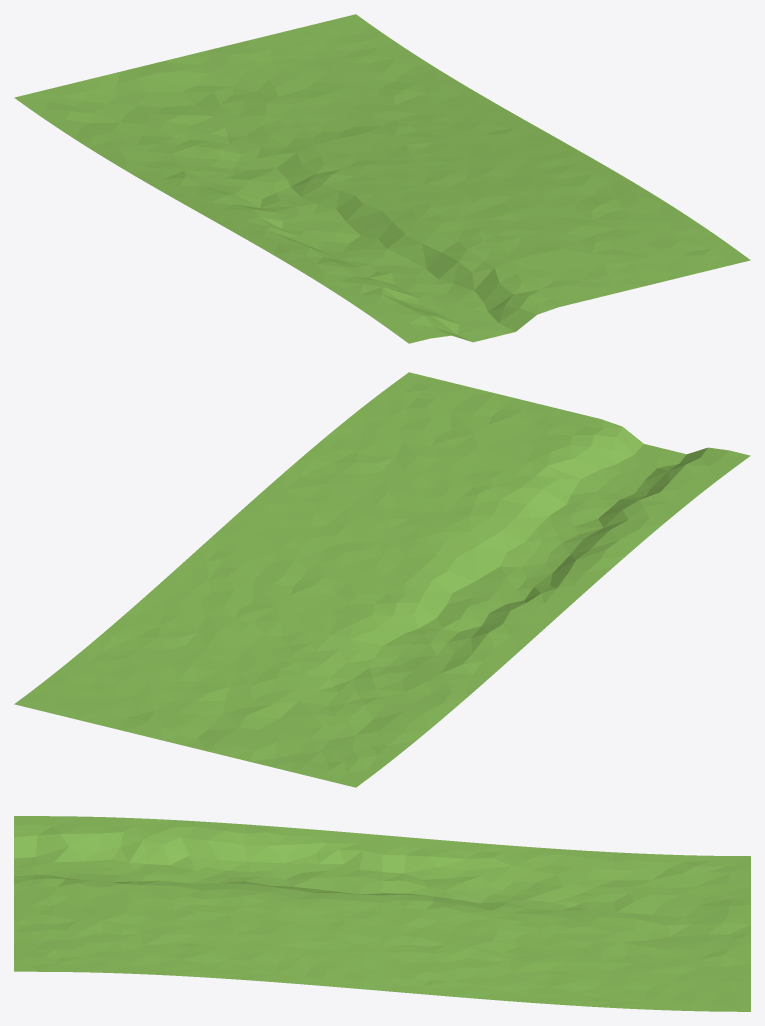
The model's file is MT_River_End_M_c_01_LOD.fbx.
The picture shows the model from 3 angles, top to bottom: view 1: azimuth 30°, elevation 25°; view 2: azimuth 150°, elevation 25°; view 3: azimuth 270°, elevation 25°; orthographic projection. The views are drawn at different scales.
Visible parts, largest first — view 1: MT_River_End_M_c_01_LOD0; view 2: MT_River_End_M_c_01_LOD0; view 3: MT_River_End_M_c_01_LOD0.
Boxes of the visible parts, x1,y1,x2,y2 form: MT_River_End_M_c_01_LOD0: (14,14,750,343); MT_River_End_M_c_01_LOD0: (14,372,750,787); MT_River_End_M_c_01_LOD0: (14,816,750,1011).
Size of what is drawn, in the model's own units: 50 by 6.29 by 100.
